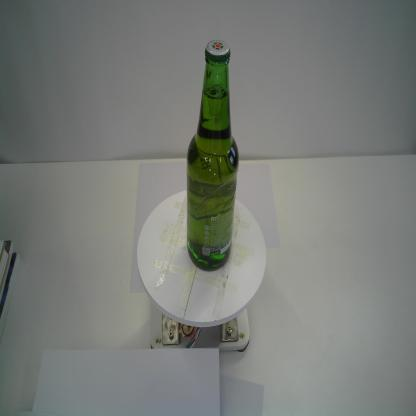Alcohol: (184, 37, 242, 274)
